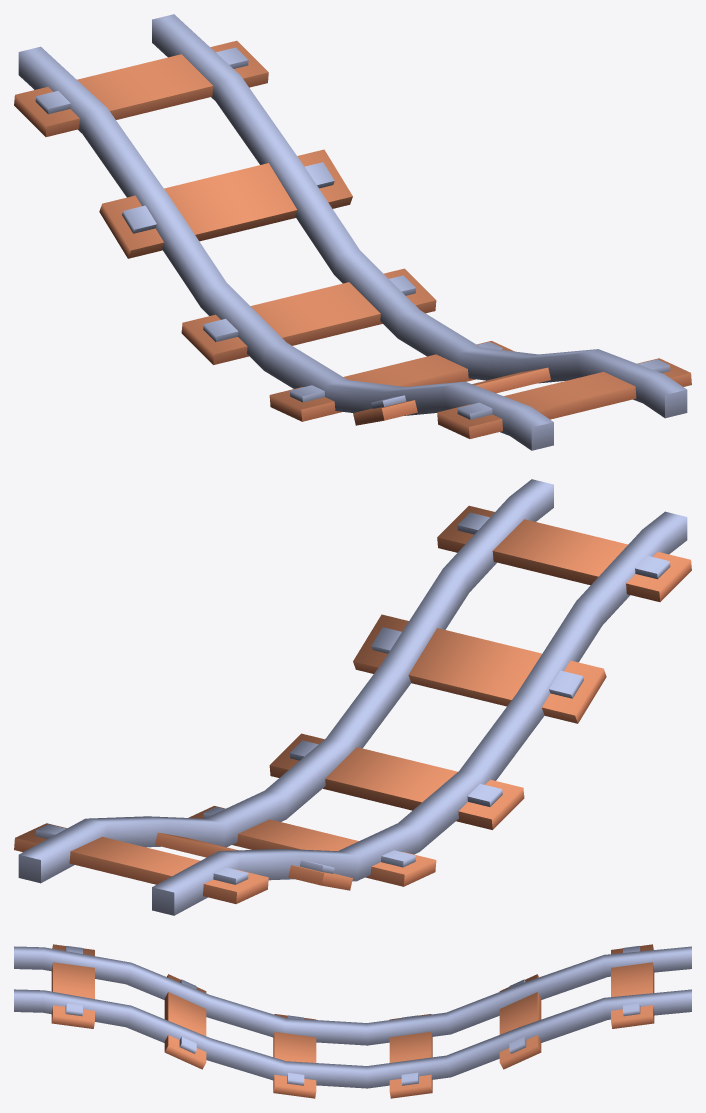
The model's file is kenney-train-railroad-straight-bump-down.glb.
3 views of the same model, one above another, from view 1: azimuth 30°, elevation 25°; view 2: azimuth 150°, elevation 25°; view 3: azimuth 270°, elevation 25° (orthographic). The views are drawn at different scales.
Visible parts, largest first — view 1: railroad-straight-bump-down; view 2: railroad-straight-bump-down; view 3: railroad-straight-bump-down.
Boxes of the visible parts, x1,y1,x2,y2 form: railroad-straight-bump-down: (14,14,691,450); railroad-straight-bump-down: (14,479,691,915); railroad-straight-bump-down: (14,944,691,1098).
Size of the model in its own units: 1 by 0.5986 by 4.
Materials: 1 (1 with a texture image).
